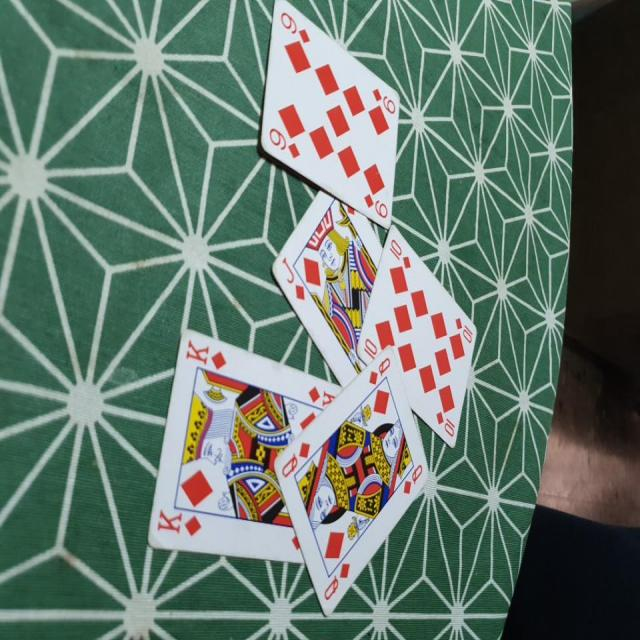10 Diamonds: (355, 226, 478, 452)
9 Diamonds: (254, 1, 399, 233)
J Diamonds: (270, 188, 384, 386)
K Diamonds: (147, 329, 340, 563)
Q Diamonds: (273, 345, 437, 619)
